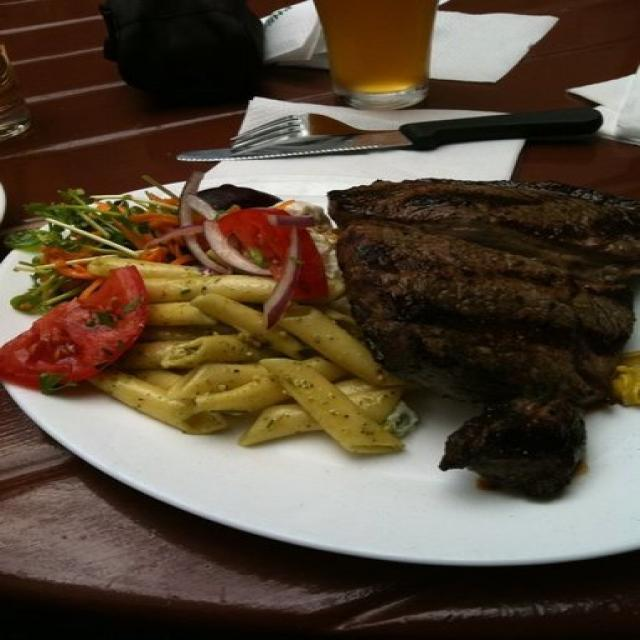Steak: (326, 161, 640, 495)
